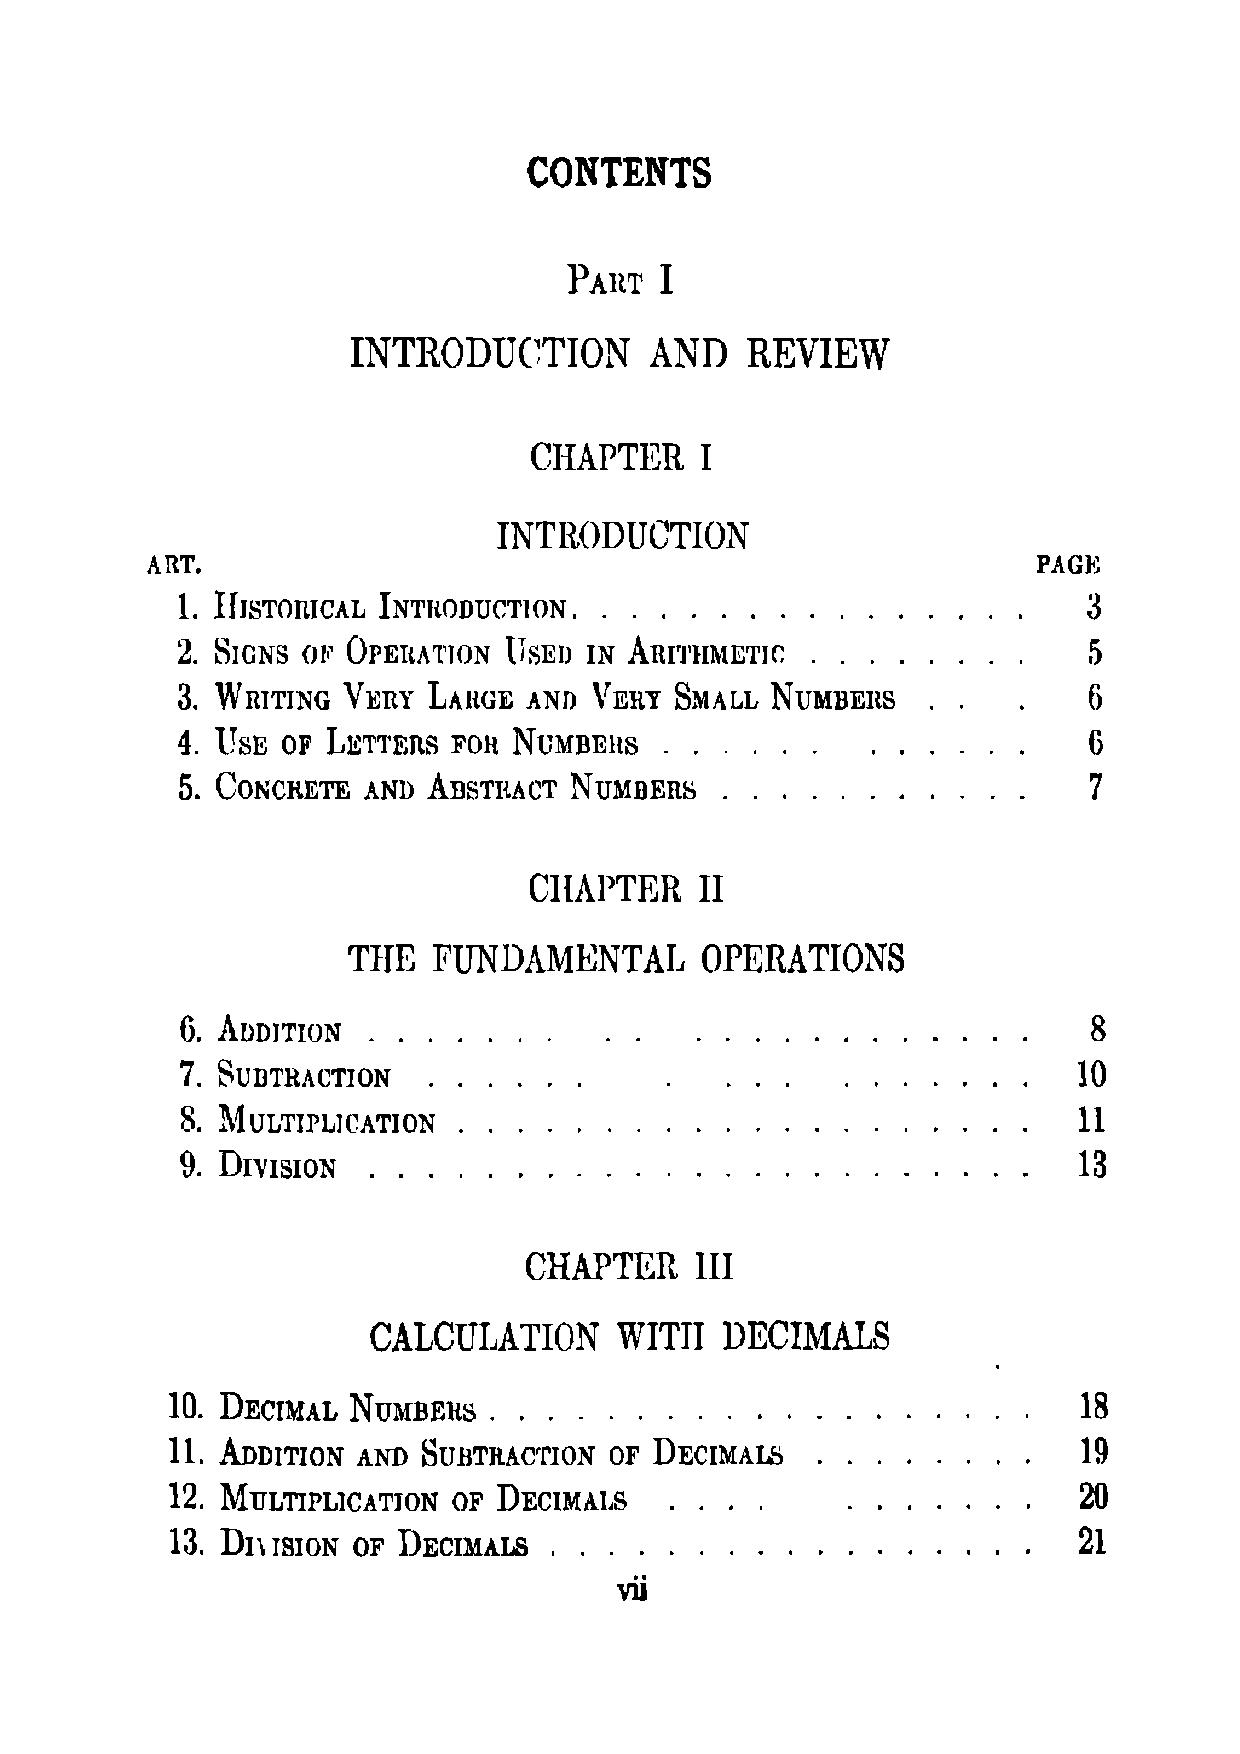TOC_chapter: (342, 866, 913, 978), (344, 258, 891, 374), (362, 1247, 900, 1355), (488, 437, 756, 554), (173, 680, 896, 717), (166, 1432, 790, 1469), (172, 635, 790, 668), (174, 770, 698, 807), (174, 723, 645, 761), (166, 1478, 627, 1515), (173, 586, 564, 624), (170, 1523, 531, 1559), (166, 1384, 482, 1421), (178, 1102, 433, 1139), (177, 1055, 400, 1090), (170, 1011, 346, 1048), (178, 1147, 337, 1182)
TOC_pagenumber: (1074, 1147, 1107, 1184), (1078, 1433, 1113, 1467), (1076, 1476, 1113, 1508), (1075, 1525, 1110, 1555), (1076, 1098, 1108, 1130), (1076, 592, 1110, 623), (1074, 1056, 1104, 1086), (1083, 1385, 1108, 1420), (1082, 632, 1104, 663), (1086, 1011, 1110, 1039), (1084, 730, 1108, 757), (1084, 764, 1102, 798), (1087, 683, 1104, 710)
chapter: (521, 148, 717, 191)
content_pagenumber: (612, 1574, 652, 1602)
